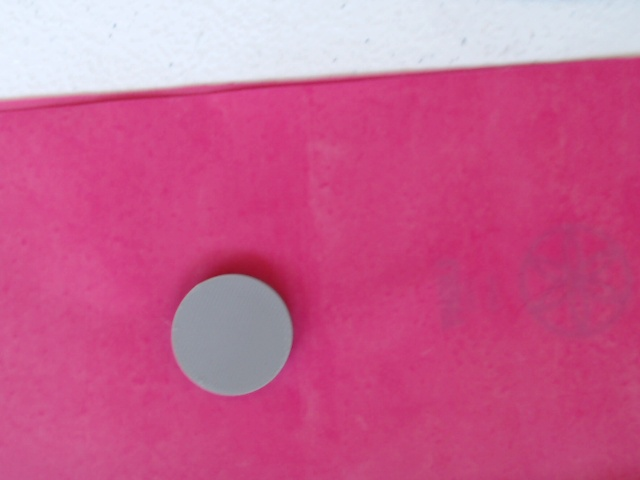NonDefective: (164, 273, 302, 402)
